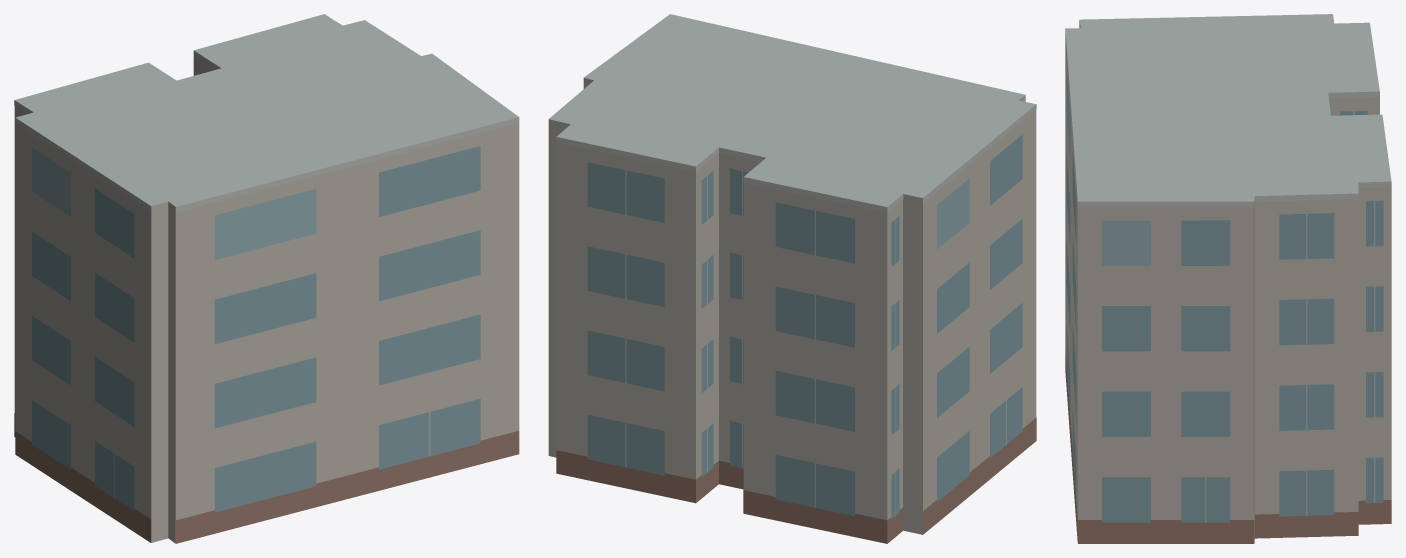
File: survey-upis-32743158.glb
3 views of the same model, side by side, from view 1: azimuth 30°, elevation 25°; view 2: azimuth 150°, elevation 25°; view 3: azimuth 270°, elevation 25° (orthographic).
Visible parts, largest first — view 1: survey-upis-32743158.tmp; view 2: survey-upis-32743158.tmp; view 3: survey-upis-32743158.tmp.
Boxes of the visible parts, box(x1,y1,x2,y2) form: survey-upis-32743158.tmp: box(14, 14, 519, 543); survey-upis-32743158.tmp: box(548, 14, 1036, 543); survey-upis-32743158.tmp: box(1065, 14, 1391, 543).
Bounding box in the file's own units: 17.44 × 14.83 × 12.82.
